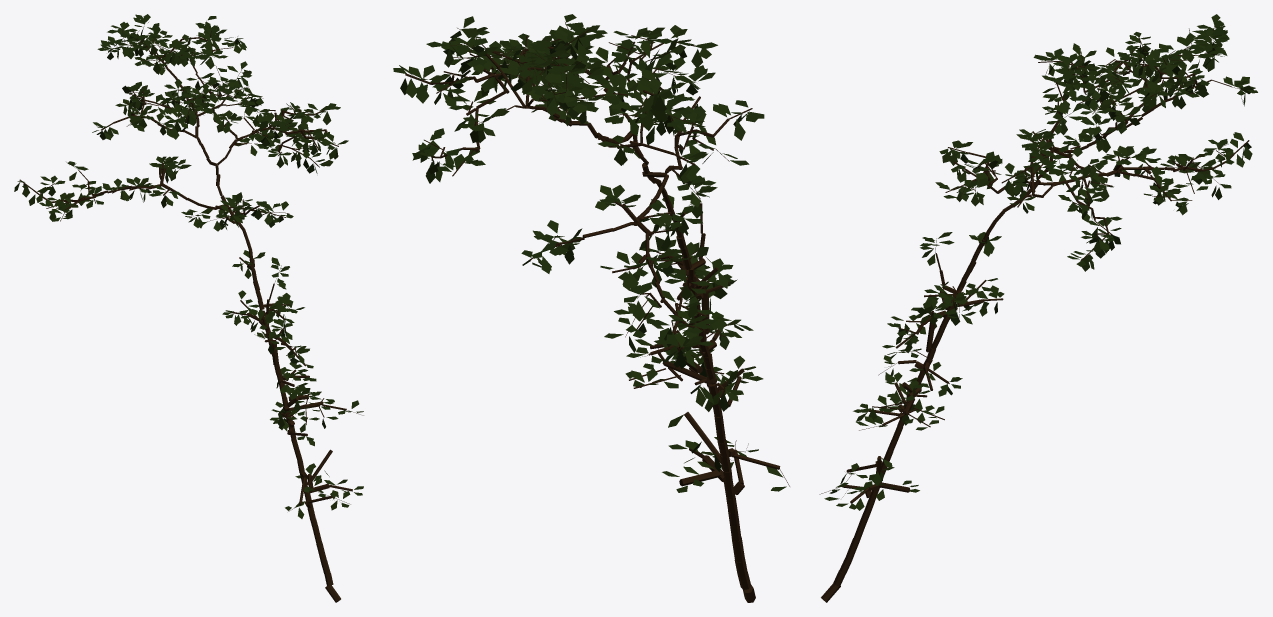
Rendered from 2022_tree_345.obj.
3 views of the same model, side by side, from view 1: azimuth 30°, elevation 25°; view 2: azimuth 150°, elevation 25°; view 3: azimuth 270°, elevation 25° (orthographic). The views are drawn at different scales.
Visible parts, largest first — view 1: Leaves, TrunkAndBranches; view 2: Leaves, TrunkAndBranches; view 3: Leaves, TrunkAndBranches.
Boxes of the visible parts, x1,y1,x2,y2 form: Leaves: [14, 14, 363, 518]; TrunkAndBranches: [19, 21, 363, 602]; Leaves: [393, 14, 786, 492]; TrunkAndBranches: [405, 22, 789, 602]; Leaves: [824, 14, 1257, 510]; TrunkAndBranches: [819, 26, 1249, 602].
Size of the model in its own units: 6.37 by 11.13 by 7.96.
